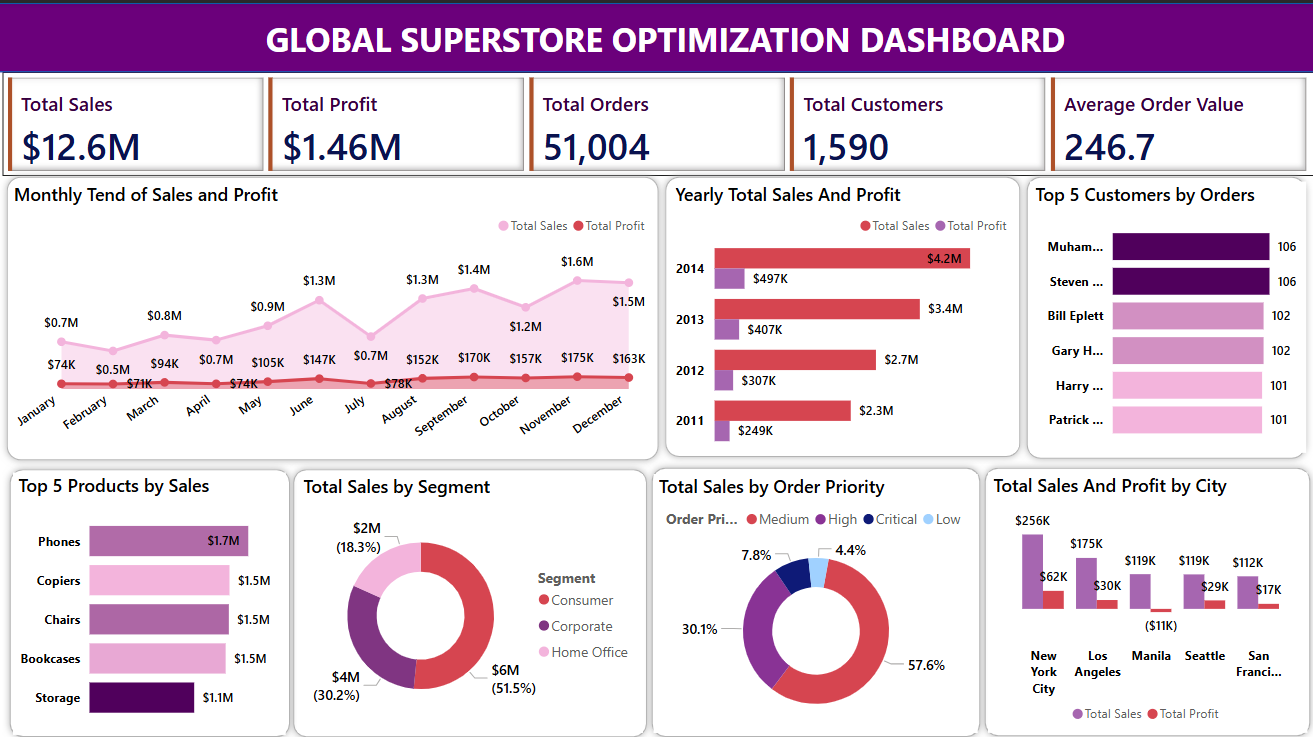

The dashboard page shown, as its layout file describes it:
{"tool":"powerbi","page":{"name":"Page 1","canvas":[1280,720],"ordinal":0},"visuals":[{"type":"cardVisual","fields":{"Data":["Orders.Total Sales","Orders.Total Profit","Orders.Total Orders","Orders.Total Customers","Orders.Average Order Value"]},"box":[5,66.6,1275,101.5],"z":0},{"type":"shape","box":[1.5,162,646.6,289.2],"z":1000},{"type":"shape","box":[0,0,1280.2,67.2],"z":2000},{"type":"textbox","box":[254.4,7.6,805.6,56],"z":3000},{"type":"shape","box":[640.5,162,358.9,286.2],"z":4000},{"type":"shape","box":[280.1,445.2,357.4,274.1],"z":5000},{"type":"areaChart","title":"Monthly Tend of  Sales and  Profit ","fields":{"Category":["Orders.Order Date.Variation.Date Hierarchy.Month"],"Y":["Orders.Total Sales","Orders.Total Profit"]},"box":[10.6,172.6,626.9,268],"z":6000},{"type":"clusteredBarChart","title":"Yearly Total Sales And Profit ","fields":{"Category":["Orders.Order Date.Variation.Date Hierarchy.Year"],"Y":["Orders.Total Sales","Orders.Total Profit"]},"box":[652.6,172.6,336.2,265],"z":7000},{"type":"shape","box":[950,444.3,330.3,274.8],"z":8000},{"type":"shape","box":[4.5,445.2,286.2,274.1],"z":9000},{"type":"barChart","title":"Top 5 Products by Sales","fields":{"Category":["Orders.Sub-Category"],"Y":["Orders.Total Sales"]},"box":[15.1,455.8,265,254.4],"z":10000},{"type":"donutChart","fields":{"Category":["Orders.Segment"],"Y":["Orders.Total Sales"]},"box":[290.7,457.3,334.6,251.4],"z":11000},{"type":"clusteredColumnChart","title":"Total Sales And Profit by City","fields":{"Category":["Orders.City"],"Y":["Orders.Total Sales","Orders.Total Profit"]},"box":[960.2,456,309.8,252.8],"z":12000},{"type":"shape","box":[626.9,444.4,333.1,275.6],"z":12001},{"type":"donutChart","fields":{"Y":["Orders.Total Sales"],"Category":["Orders.Order Priority"]},"box":[636,457.3,315,251.4],"z":12002},{"type":"shape","box":[991.8,162,284.7,287.7],"z":12003},{"type":"barChart","title":"Top  5 Customers by Orders ","fields":{"Category":["Orders.Customer Name"],"Y":["Orders.Order ID"]},"box":[1000.9,172.6,268,263.5],"z":12004}]}

Visuals, with their boxes in screenshot pixels (x1, y1, x2, y2), scaled from the page's 1280x720 canvas onto the 1313x737 screenshot:
cardVisual - Orders.Total Sales x Orders.Total Profit: box(5, 68, 1312, 172)
shape: box(2, 166, 665, 462)
shape: box(0, 0, 1312, 69)
textbox: box(261, 8, 1087, 65)
shape: box(657, 166, 1025, 459)
shape: box(287, 456, 654, 736)
"Monthly Tend of  Sales and  Profit " areaChart: box(11, 177, 654, 451)
"Yearly Total Sales And Profit " clusteredBarChart: box(669, 177, 1014, 448)
shape: box(974, 455, 1312, 736)
shape: box(5, 456, 298, 736)
"Top 5 Products by Sales" barChart: box(15, 467, 287, 727)
donutChart - Orders.Segment x Orders.Total Sales: box(298, 468, 641, 725)
"Total Sales And Profit by City" clusteredColumnChart: box(985, 467, 1303, 726)
shape: box(643, 455, 985, 736)
donutChart - Orders.Total Sales x Orders.Order Priority: box(652, 468, 976, 725)
shape: box(1017, 166, 1309, 460)
"Top  5 Customers by Orders " barChart: box(1027, 177, 1302, 446)
